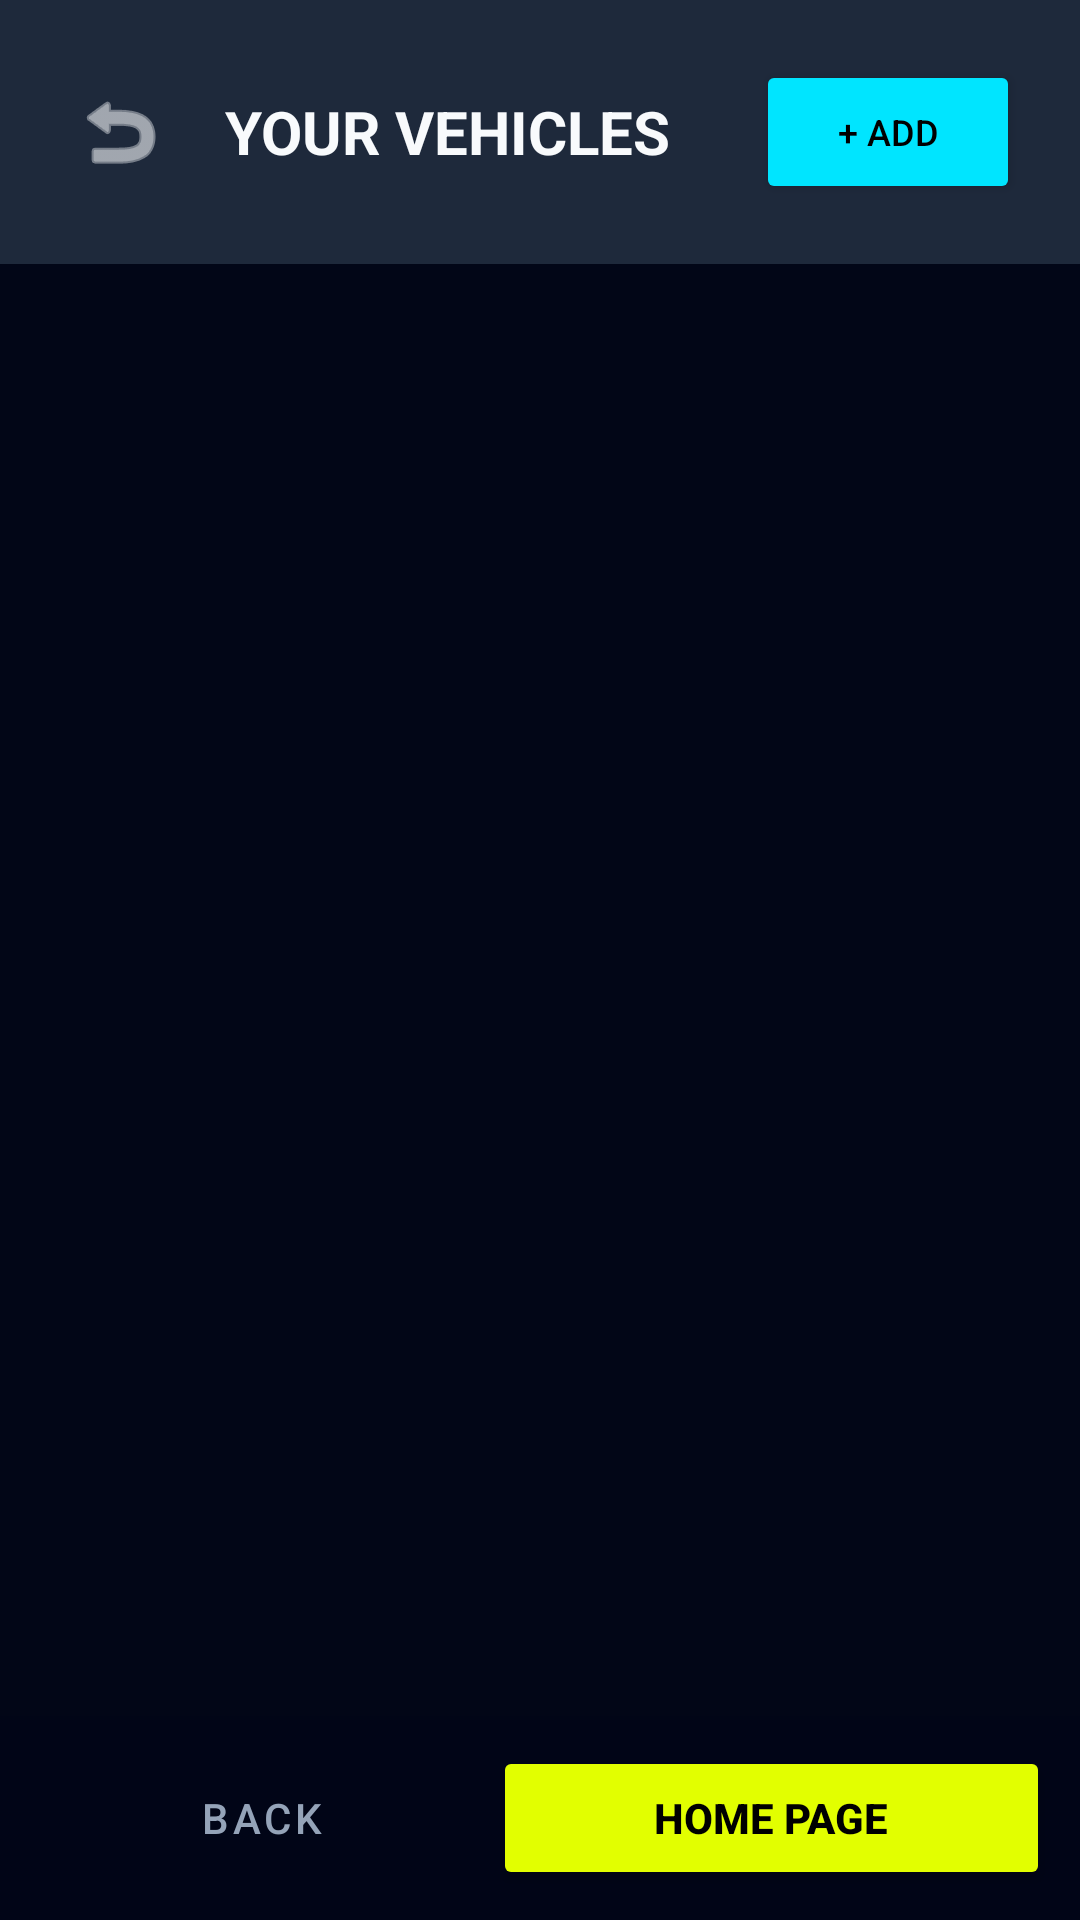

Where icons sit on this 1080x1920 app screen, as (x1=x1, y1=y1, x2=x2, y2=y2):
revert: (x1=87, y1=101, x2=156, y2=164)
